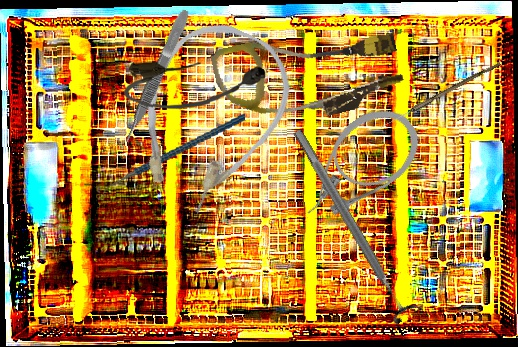Cannula: (107, 4, 309, 230), (209, 10, 408, 139), (279, 94, 433, 234), (123, 57, 268, 112)
Chopper: (91, 112, 255, 203)
Fixation Ring: (283, 122, 424, 326)
Surgical Spoon: (380, 59, 501, 131)
Tissue Forceps: (119, 7, 193, 145)
